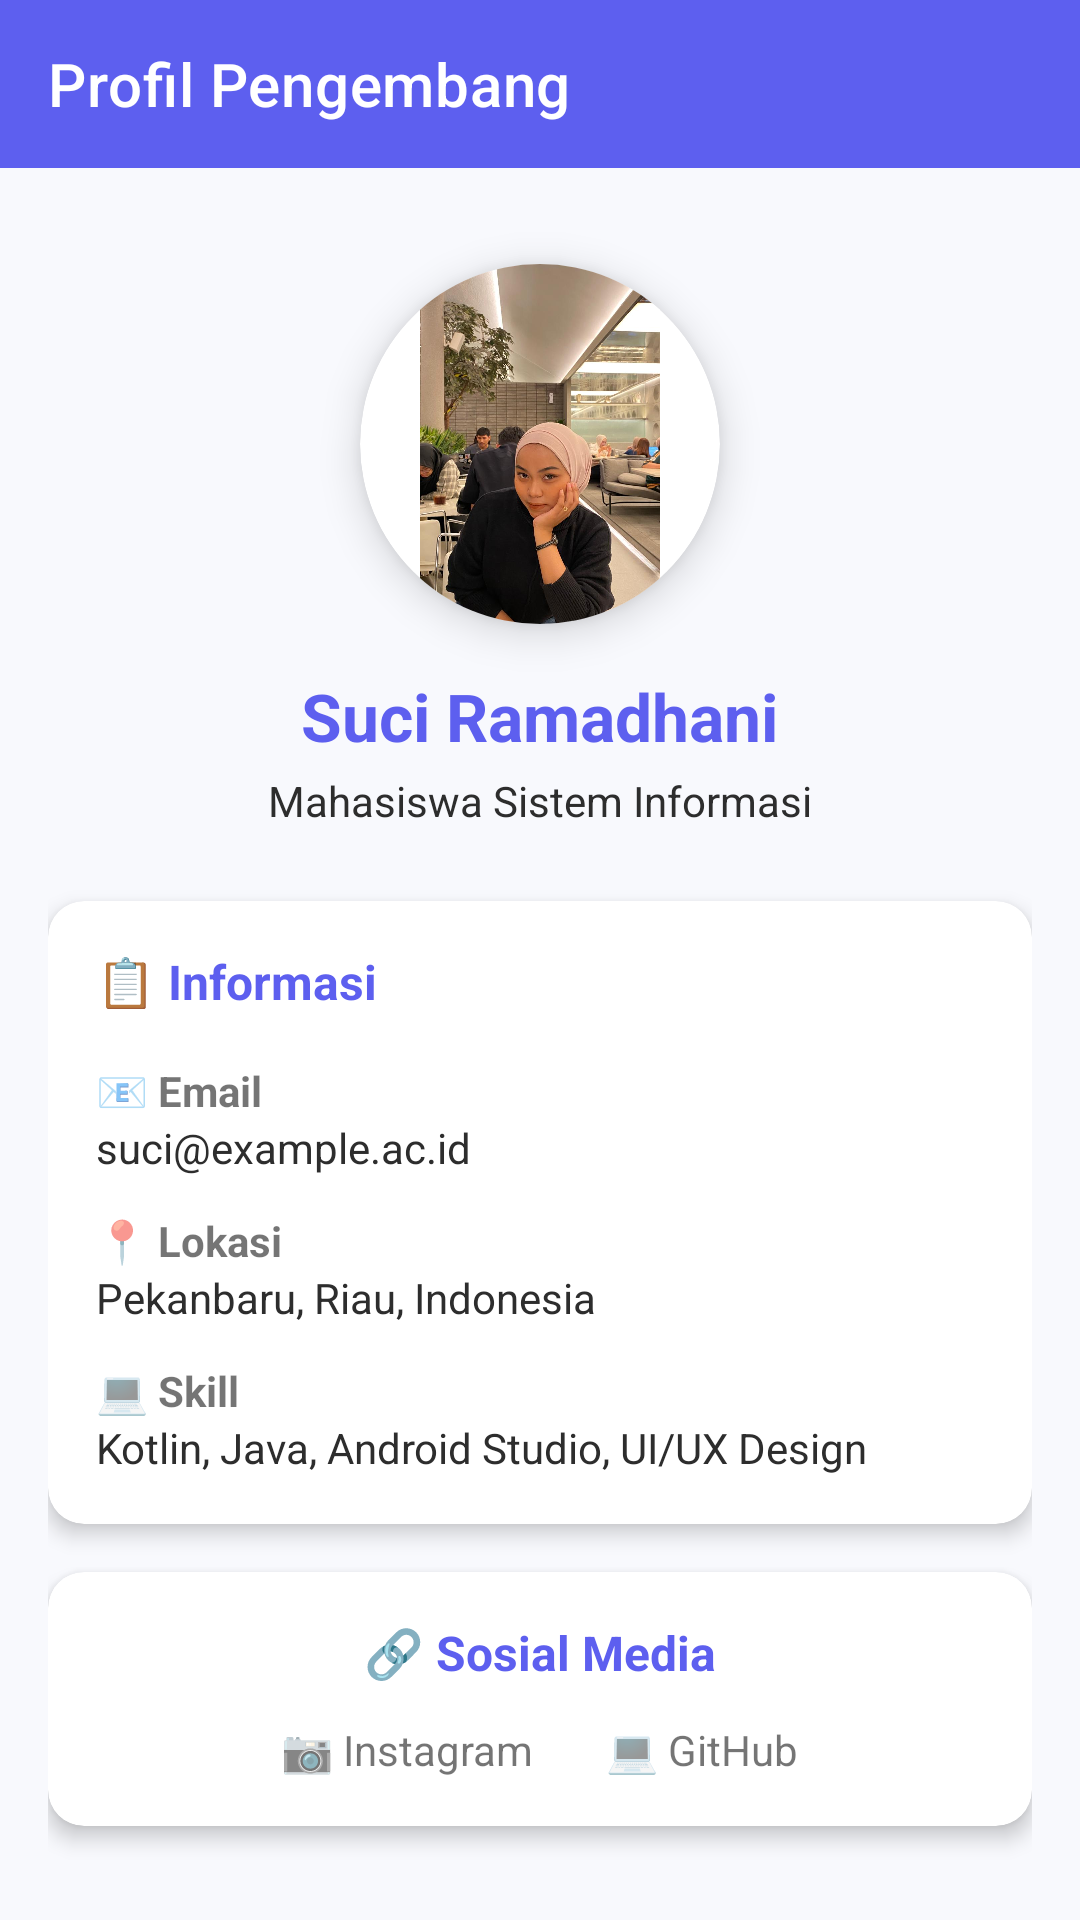

Named icons in this screenshot (1080*1920) and their centers, (x=x, y=y):
foto suci: (x=540, y=444)
